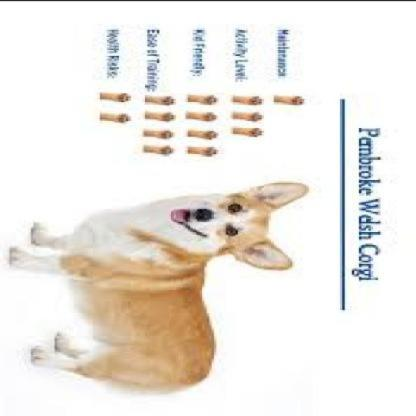dog: (8, 180, 309, 391)
